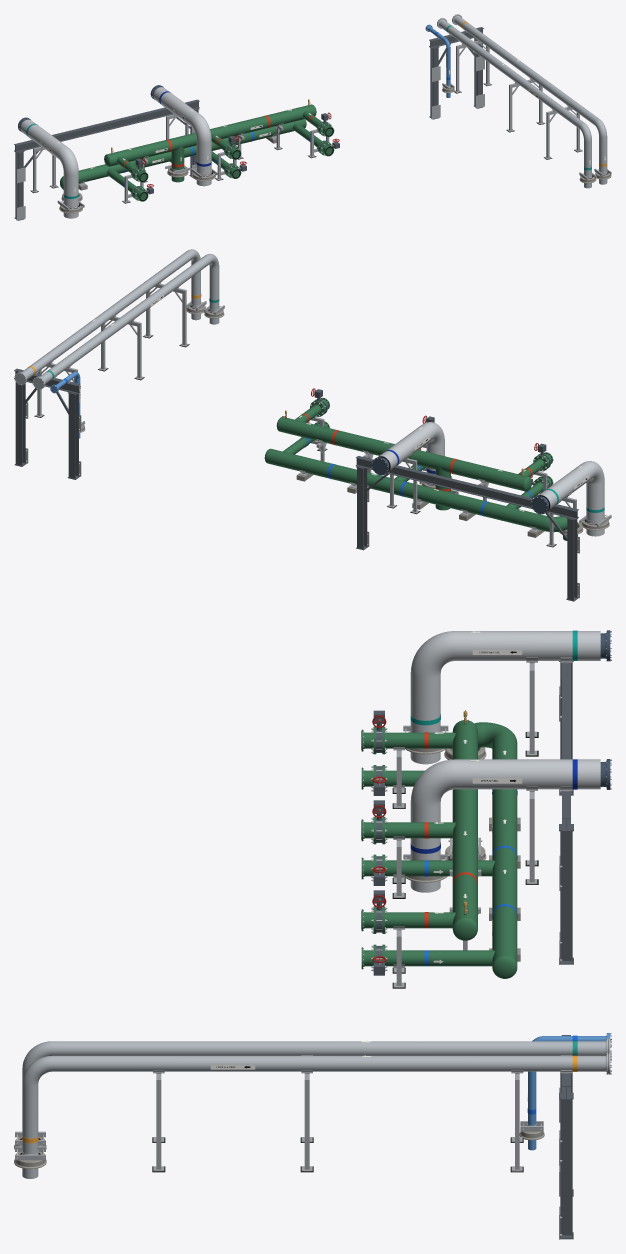
The model's file is roof-piping.glb.
3 renders of one model, top to bottom at view 1: azimuth 30°, elevation 25°; view 2: azimuth 150°, elevation 25°; view 3: azimuth 270°, elevation 25°, orthographic. The views are drawn at different scales.
Parts seen in each view (by area): view 1: CHWF_PipeBridge, CWR_ReturnHeader, UTL_PCWReturn, UTL_PCWSupply, CHWF_ReturnRiser, CHWF_SupplyRiser, UTL_Supports, CWR_SupplyHeader, CWR_Supports, CWR_RoofPenetrations, CHWF_Supports, UTL_CDAMain (+2 smaller); view 2: CHWF_PipeBridge, CWR_SupplyHeader, CWR_ReturnHeader, UTL_PCWSupply, UTL_PCWReturn, CHWF_ReturnRiser, UTL_Supports, CHWF_SupplyRiser, CWR_Supports, CHWF_Supports, CWR_RoofPenetrations; view 3: UTL_PCWReturn, UTL_PCWSupply, CHWF_ReturnRiser, CHWF_SupplyRiser, CHWF_PipeBridge, CWR_SupplyHeader, CWR_ReturnHeader, UTL_Supports, CWR_Supports, CWR_CT03_Outlet, CWR_CT02_Outlet, CHWF_Supports (+5 smaller).
Part boxes in pixels (x1,y1,x2,y2): CHWF_PipeBridge: (14,27,484,220); CWR_ReturnHeader: (104,99,316,182); UTL_PCWReturn: (452,14,607,184); UTL_PCWSupply: (437,18,591,188); CHWF_ReturnRiser: (18,117,78,218); CHWF_SupplyRiser: (150,85,211,186); UTL_Supports: (442,38,611,183); CWR_SupplyHeader: (60,119,306,189); CWR_Supports: (78,123,329,203); CWR_RoofPenetrations: (57,165,217,213); CHWF_Supports: (30,110,188,193); UTL_CDAMain: (425,24,450,97); CHWF_PipeBridge: (14,368,579,601); CWR_SupplyHeader: (264,448,577,540); CWR_ReturnHeader: (276,410,531,510); UTL_PCWSupply: (32,253,219,389); UTL_PCWReturn: (14,249,201,385); CHWF_ReturnRiser: (531,461,604,536); UTL_Supports: (34,280,224,432); CHWF_SupplyRiser: (371,422,444,475); CWR_Supports: (296,414,547,537); CHWF_Supports: (387,453,576,547); CWR_RoofPenetrations: (419,476,611,535); UTL_PCWReturn: (22,1052,611,1178); UTL_PCWSupply: (22,1038,611,1081); CHWF_ReturnRiser: (410,630,611,764); CHWF_SupplyRiser: (410,759,611,892); CHWF_PipeBridge: (559,657,573,1239); CWR_SupplyHeader: (474,722,517,978); CWR_ReturnHeader: (452,710,477,940); UTL_Supports: (14,1055,544,1172); CWR_Supports: (392,747,520,988); CWR_CT03_Outlet: (361,947,494,969); CWR_CT02_Outlet: (361,857,494,879); CHWF_Supports: (525,657,538,884).
Bounding box in the file's own units: 21.66 × 3.93 × 12.1.
